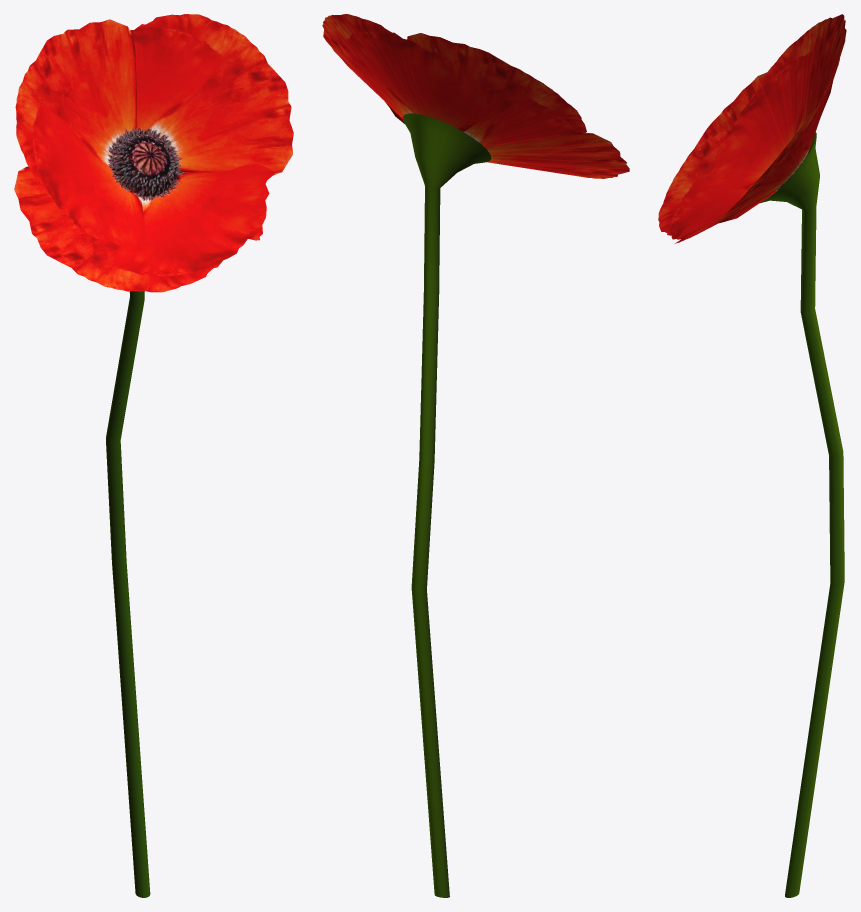
The model's file is Poppy.fbx.
3 views of the same model, side by side, from view 1: azimuth 30°, elevation 25°; view 2: azimuth 150°, elevation 25°; view 3: azimuth 270°, elevation 25° (orthographic). The views are drawn at different scales.
Parts seen in each view (by area): view 1: Poppy; view 2: Poppy; view 3: Poppy.
Part boxes in pixels (x1,y1,x2,y2): Poppy: [14, 14, 293, 897]; Poppy: [322, 14, 629, 897]; Poppy: [658, 14, 846, 897].
Bounding box in the file's own units: 12.2 × 36.26 × 7.25.
